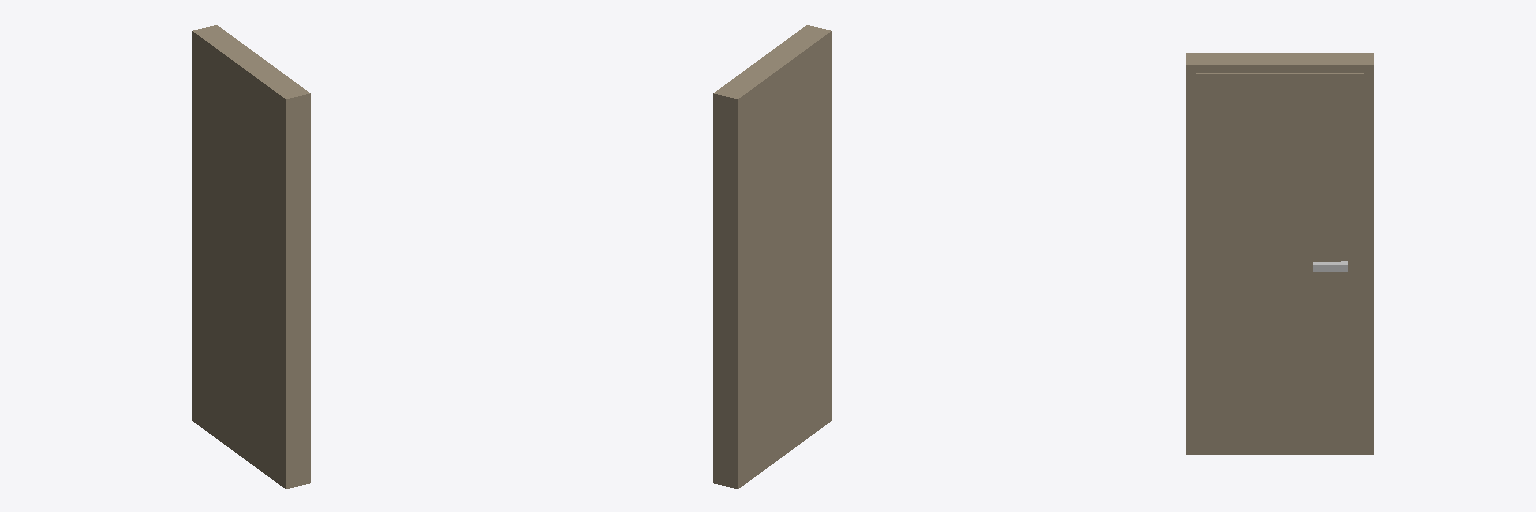
Rendered from door.obj.
The picture shows the model from 3 angles: view 1: azimuth 30°, elevation 25°; view 2: azimuth 150°, elevation 25°; view 3: azimuth 270°, elevation 25°; orthographic projection.
Visible parts, largest first — view 1: Cube.004; view 2: Cube.004; view 3: Cube.004.
Part boxes in pixels (left/top/right/bottom): Cube.004: left=192, top=25, right=310, bottom=488; Cube.004: left=713, top=25, right=831, bottom=488; Cube.004: left=1186, top=53, right=1373, bottom=454.
Size of the model in its own units: 0.2109 by 2.32 by 1.01.